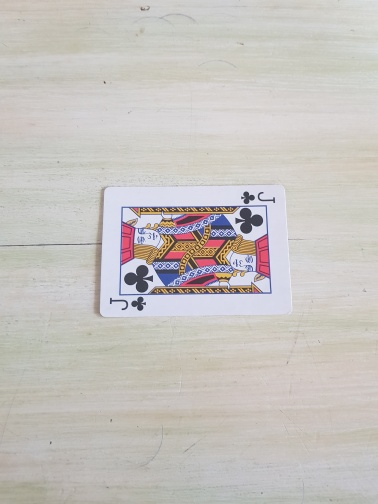jack: (98, 184, 293, 319)
